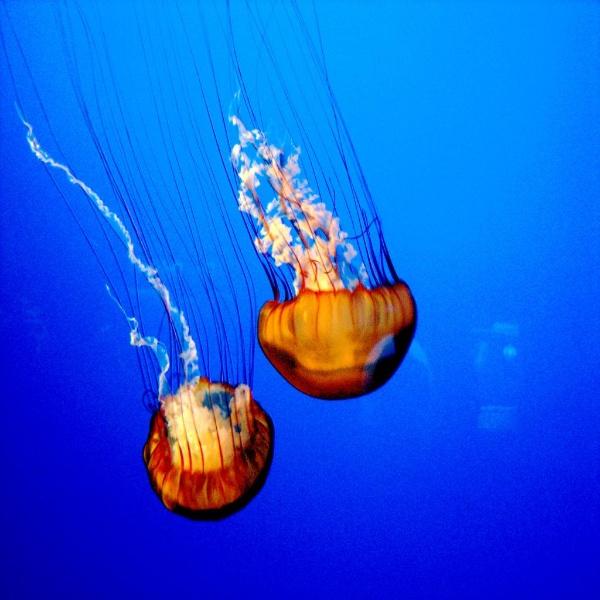Jellyfish: (0, 0, 275, 523), (253, 0, 417, 399)
